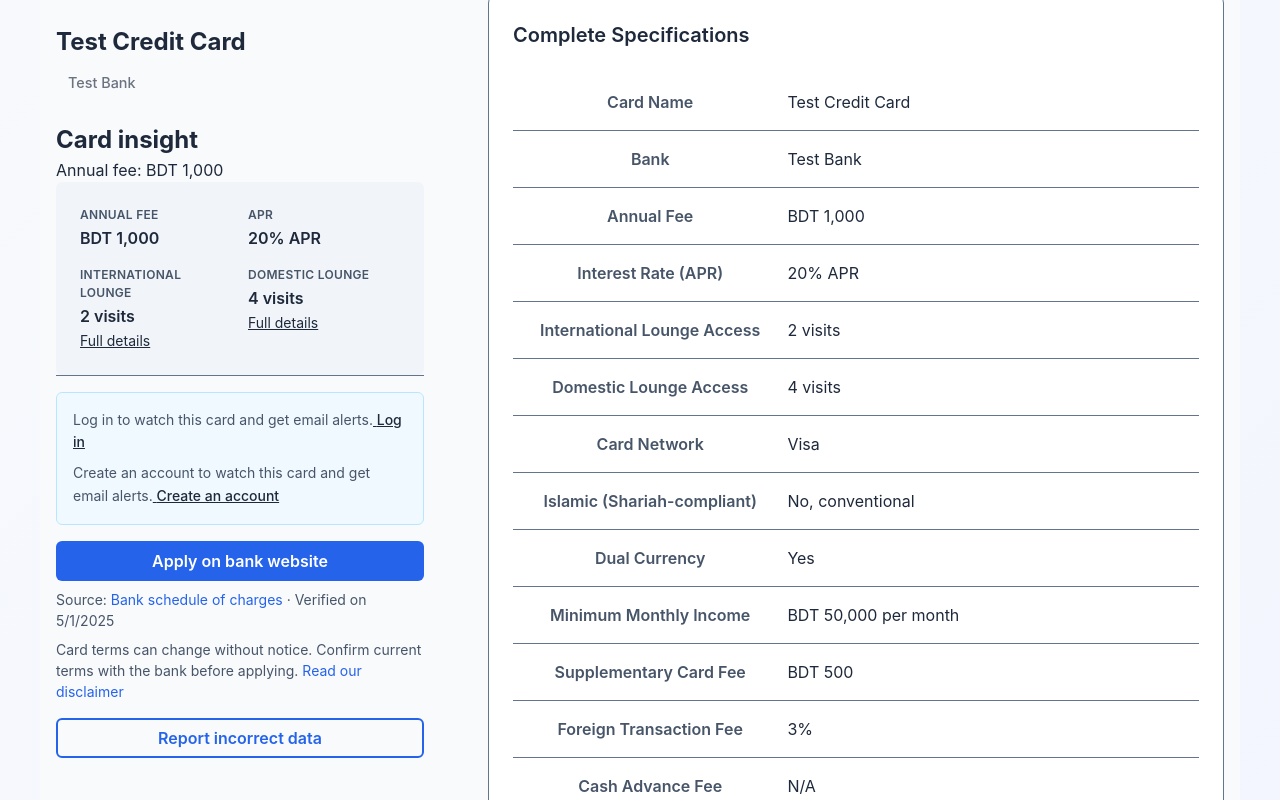
Test: Report incorrect data dialog › shows a throttle message on 429 and a generic error on failure
(page scrolled)
Click the button "Report incorrect data" at (240, 738), box left=56, top=718, right=424, bottom=758
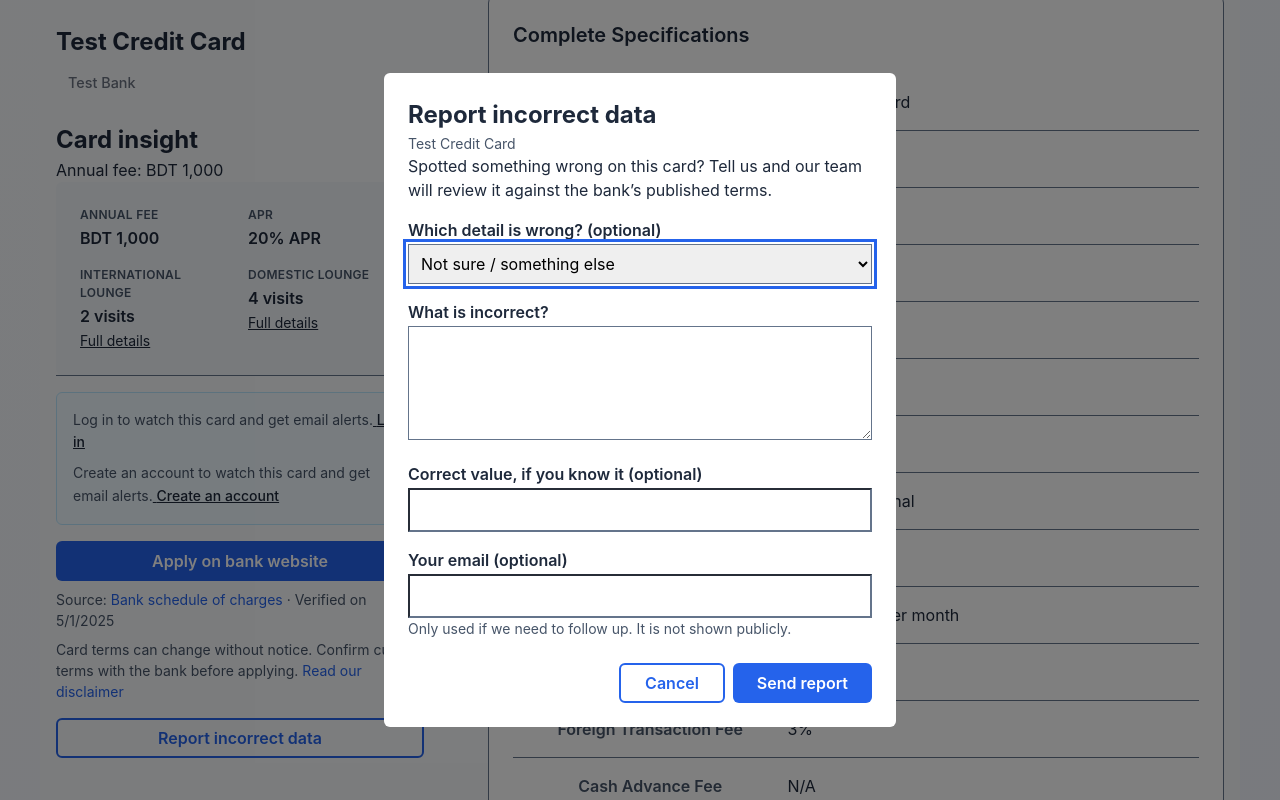
Type "Wrong" into the text box labelled "What is incorrect?" at (640, 383), box left=408, top=326, right=872, bottom=440
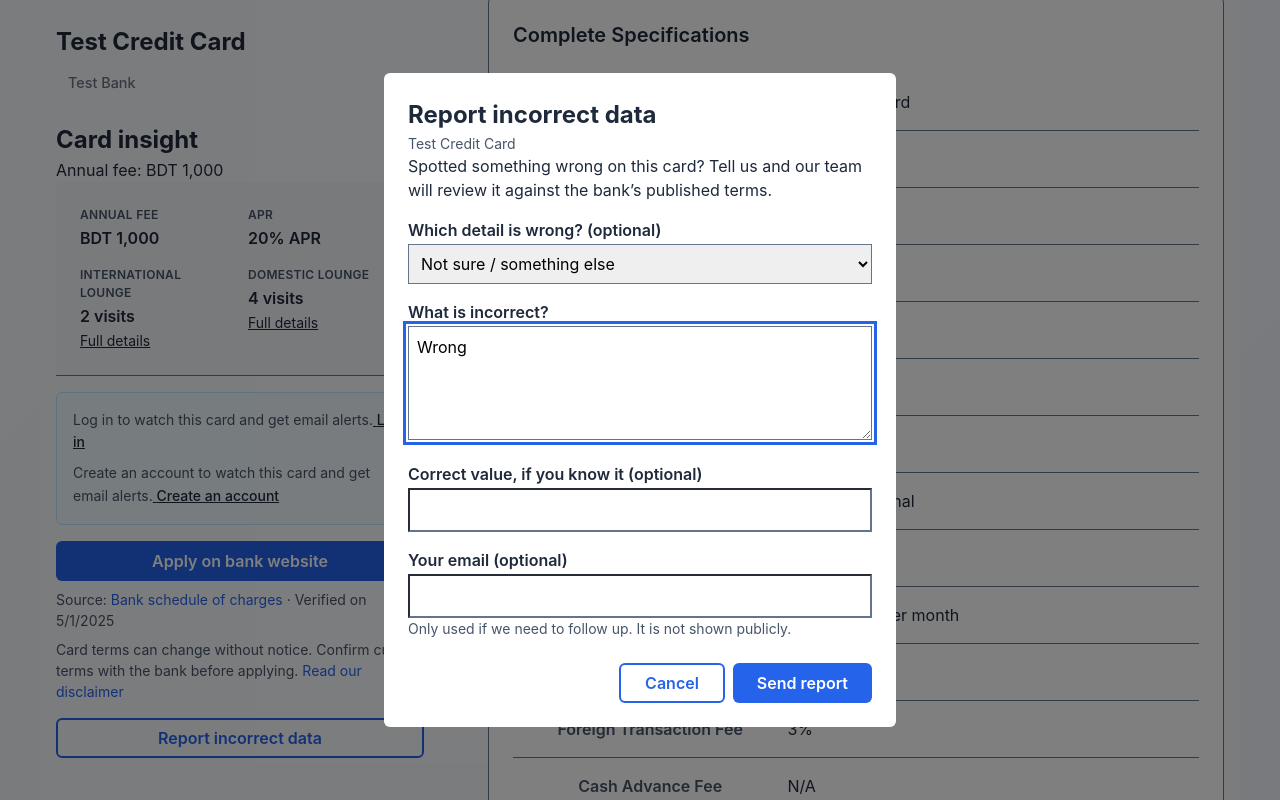
Click the button "Send report" at (802, 683), box left=733, top=663, right=872, bottom=703
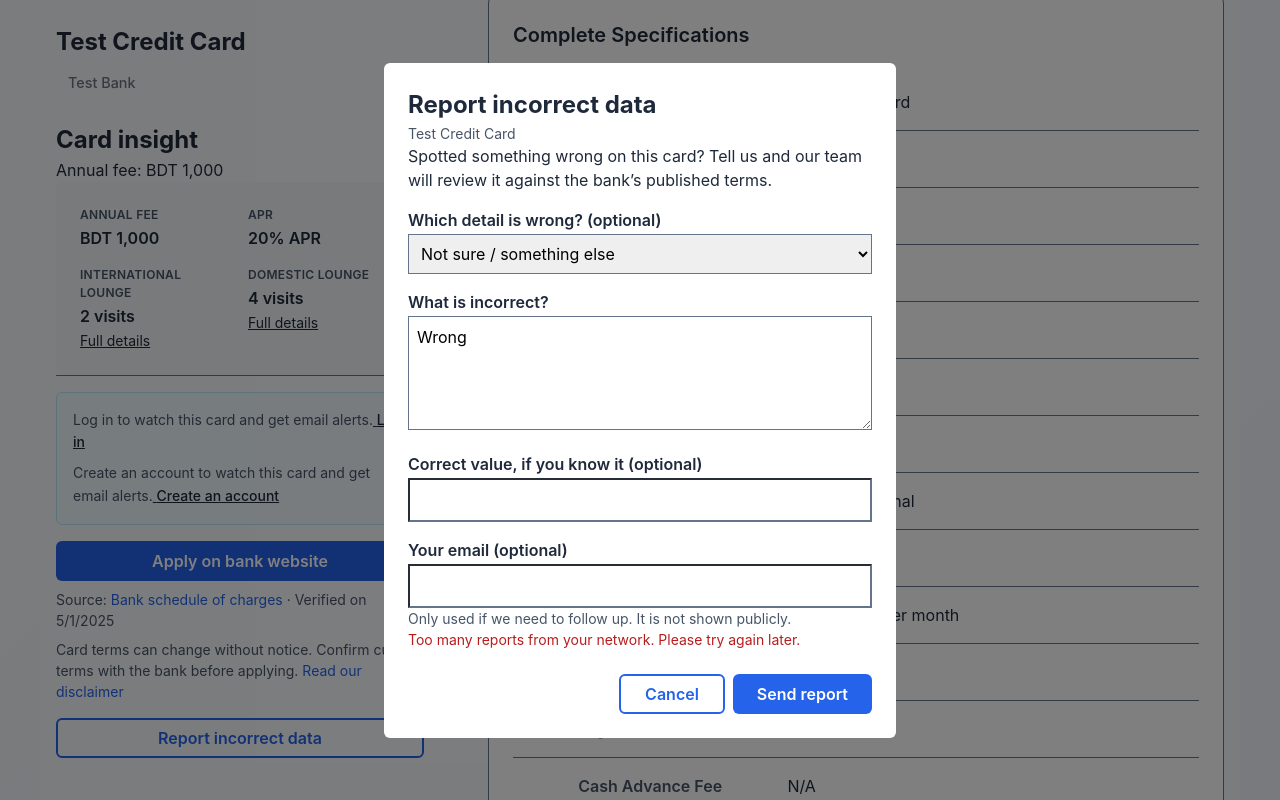
Expected: the message shows "Too many reports", left=408, top=630, right=800, bottom=648
Click the button "Send report" at (802, 694), box left=733, top=674, right=872, bottom=714
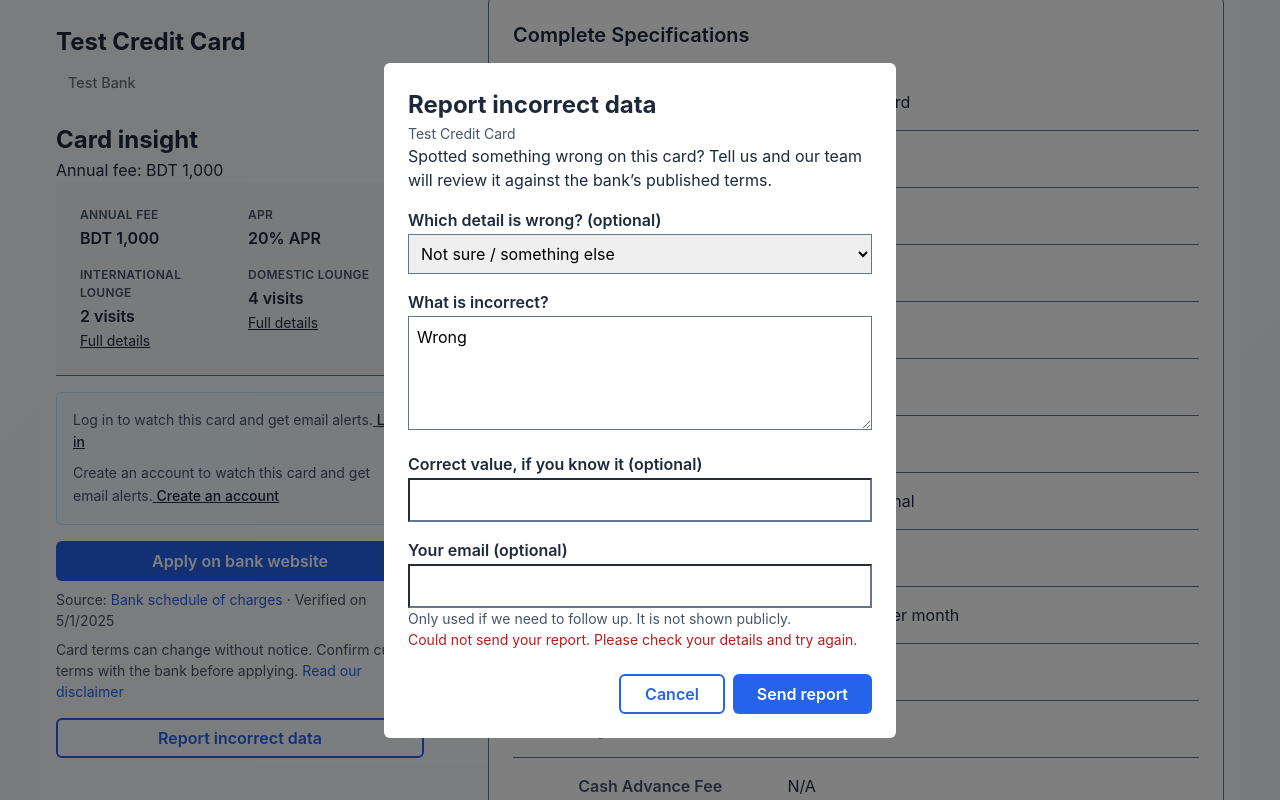
Expected: the message shows "Could not send your report", left=408, top=630, right=857, bottom=648
